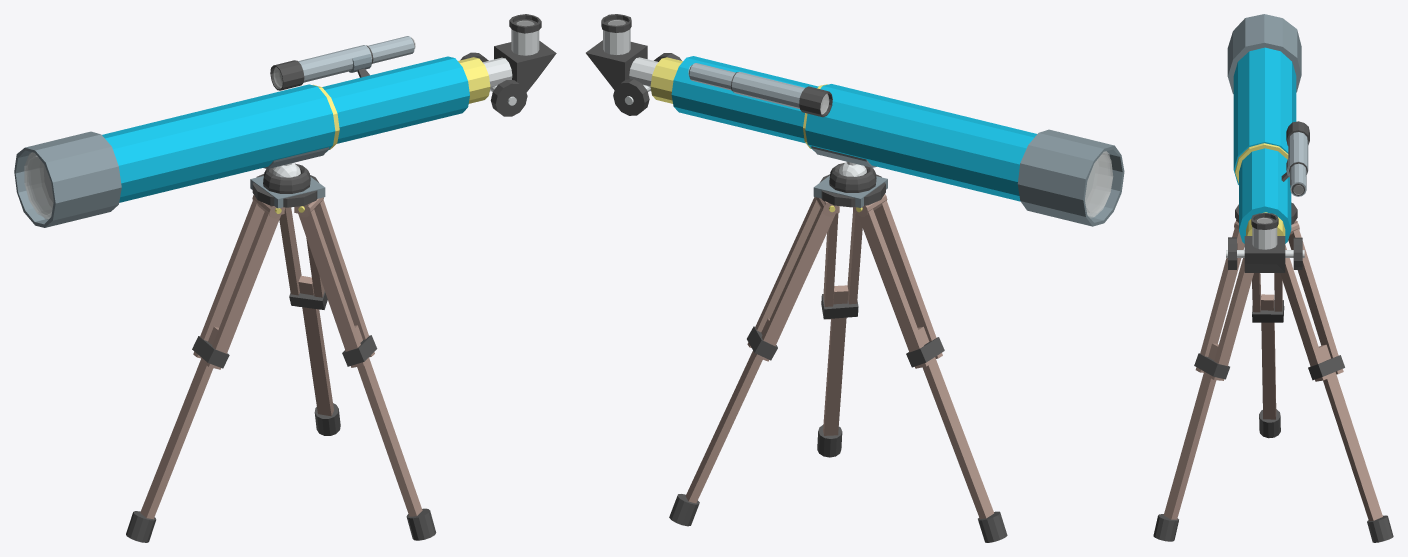
The model's file is physics.dae.
3 renders of one model, left to right at view 1: azimuth 30°, elevation 25°; view 2: azimuth 150°, elevation 25°; view 3: azimuth 270°, elevation 25°, orthographic. The views are drawn at different scales.
Parts seen in each view (by area): view 1: mesh557900813; view 2: mesh557900813; view 3: mesh557900813.
Boxes of the visible parts, x1=… form: mesh557900813: x1=14, y1=14, x2=556, y2=542; mesh557900813: x1=586, y1=14, x2=1124, y2=542; mesh557900813: x1=1153, y1=14, x2=1393, y2=542.
Size of the model in its own units: 1.93 by 0.8822 by 1.58.
